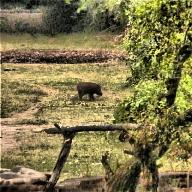boar: (77, 82, 103, 102)
